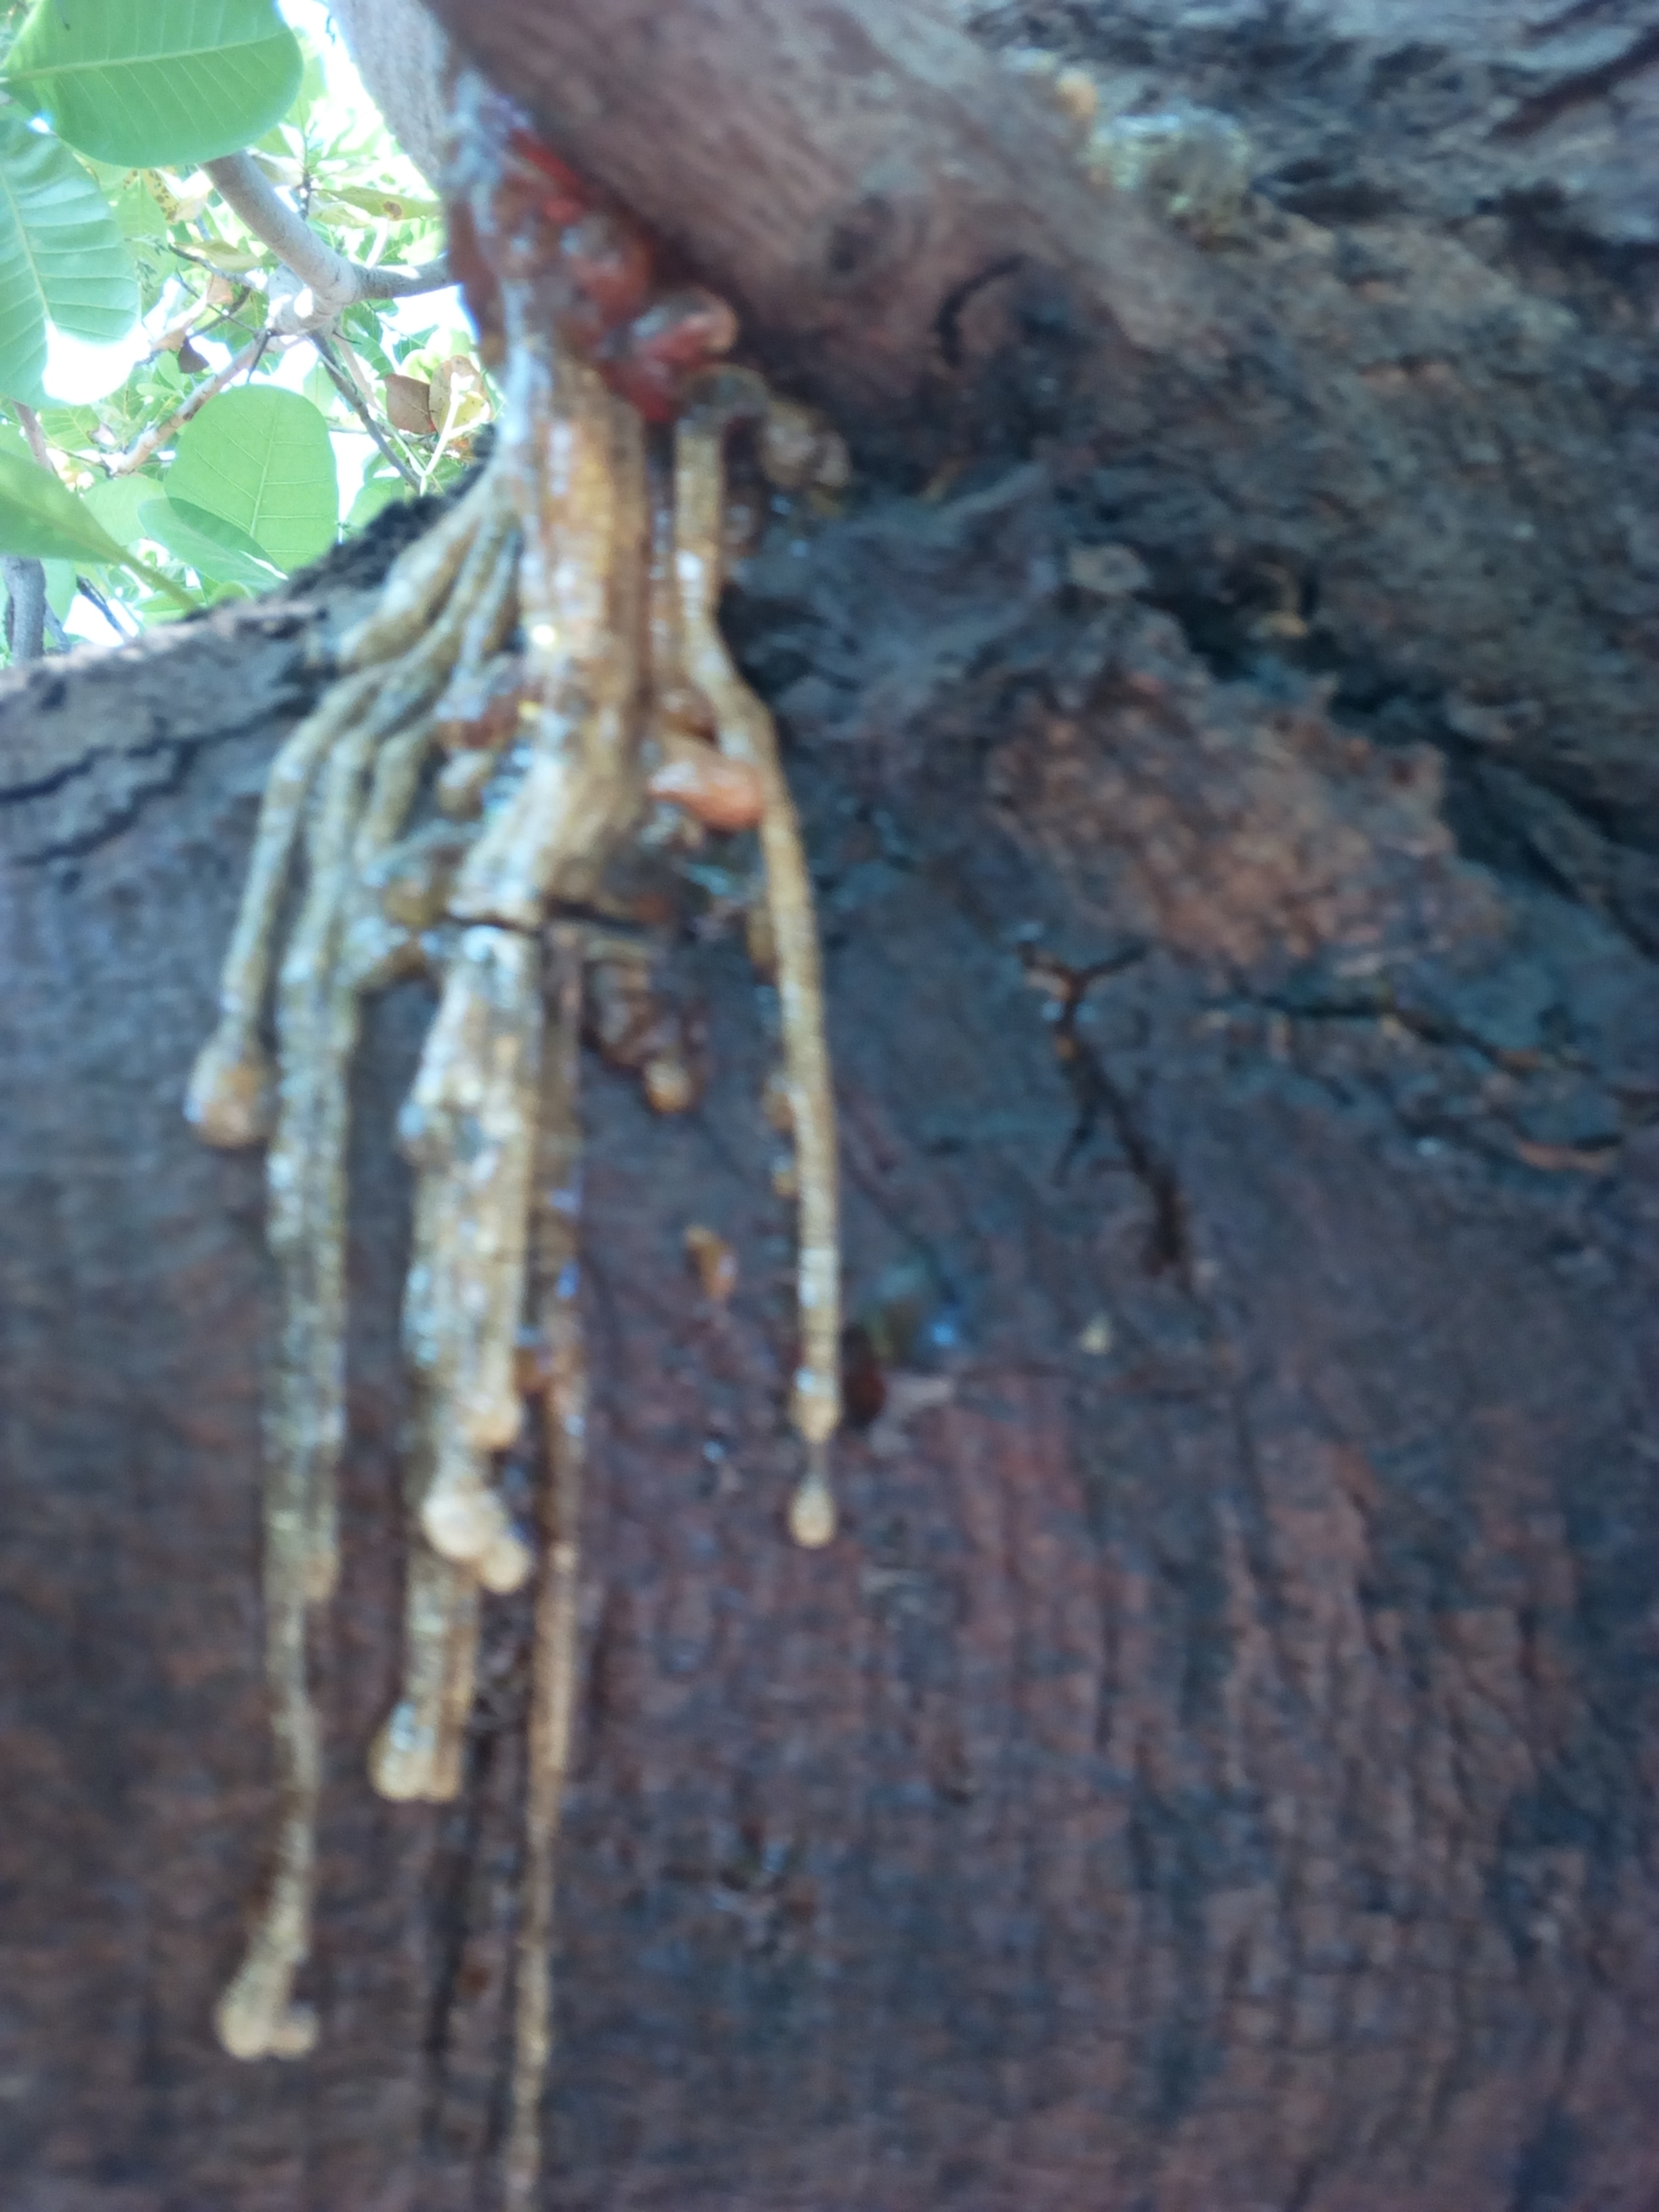Gommose: (220, 171, 775, 2207), (836, 472, 1659, 1252)
